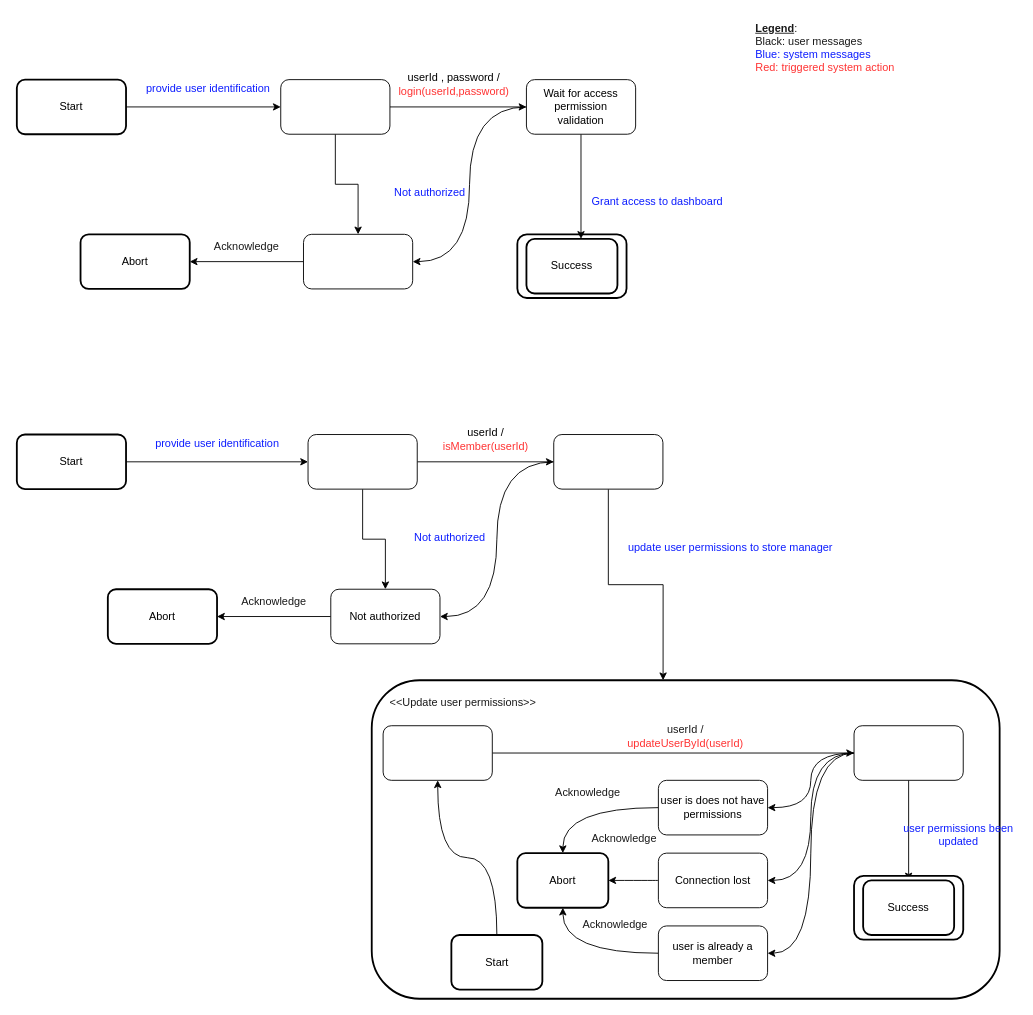
Some shapes in this 1033 by 1015 pixel diagram are drawn without their labels. The box of each missing label's shape, as (x1, y1, x2, y2) in pixels:
No access: (303, 233, 413, 289)
Verify if user is member: (307, 434, 417, 489)
Wait for server repsonse: (553, 434, 663, 489)
Wait for system approval: (853, 725, 963, 780)
Wait for user id: (382, 725, 492, 780)
Wait for user identification: (280, 79, 390, 134)
